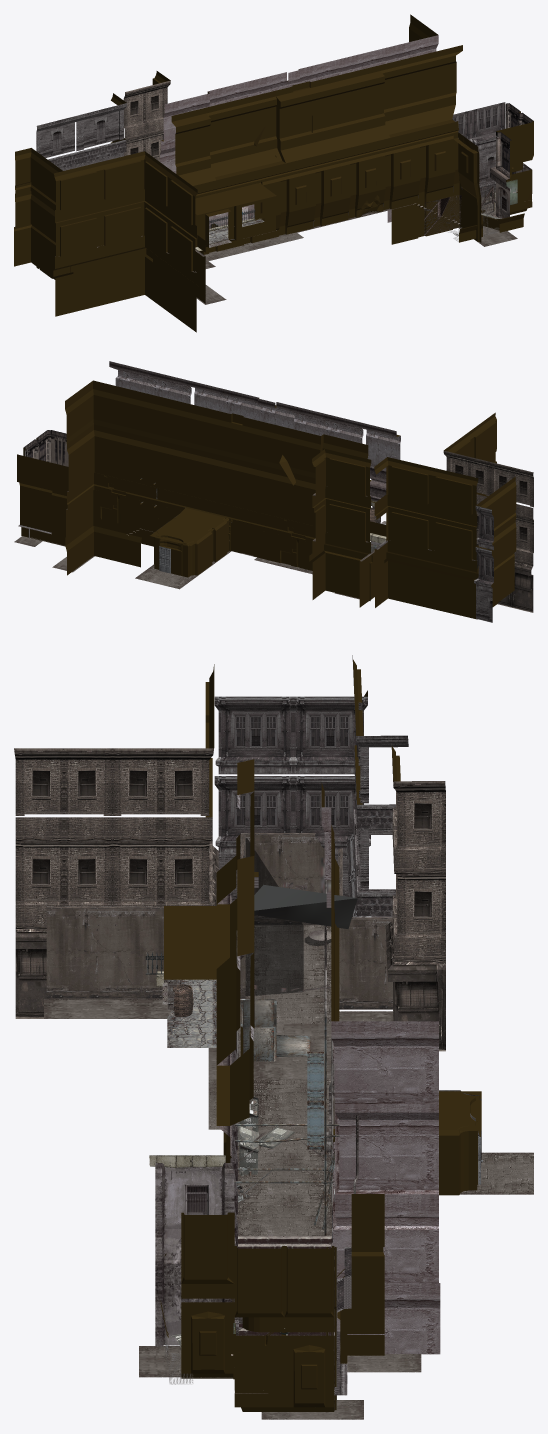
The model's file is ARASOKAK1.glb.
The picture shows the model from 3 angles, top to bottom: view 1: azimuth 30°, elevation 25°; view 2: azimuth 150°, elevation 25°; view 3: azimuth 270°, elevation 25°; orthographic projection. The views are drawn at different scales.
Visible parts, largest first — view 1: Material3.030; view 2: Material3.030; view 3: Material3.030.
Boxes of the visible parts, <box> form: Material3.030: <box>14,14,533,332</box>; Material3.030: <box>14,361,533,622</box>; Material3.030: <box>14,655,533,1419</box>.
Bounding box in the file's own units: 8.51 × 3 × 4.13.
32 materials, 31 textured.
